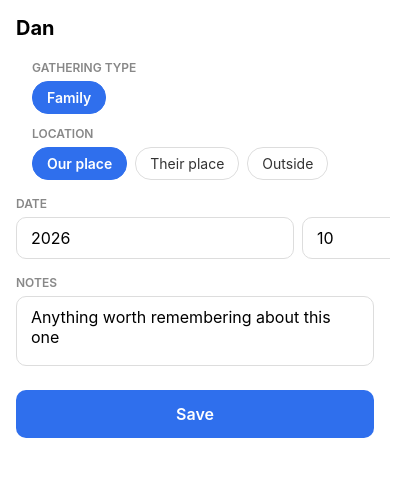
it: LogGatheringScreen › submit__year_out_of_range__shows_validation_error
Check: the text "Dan" is shown, box [16,16,54,40]
Replace the text in the 1st field with placeholder "Year" with "1800": (155, 238) [16,217,294,259]
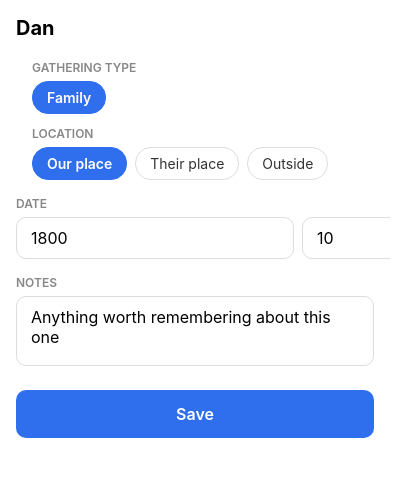
Click the element with test id "log-gathering-submit": (195, 414) [16,390,374,438]
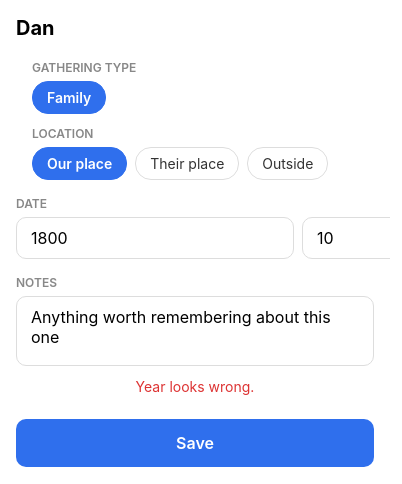
Check: the text "Year looks wrong." is shown, box [136,378,254,395]
